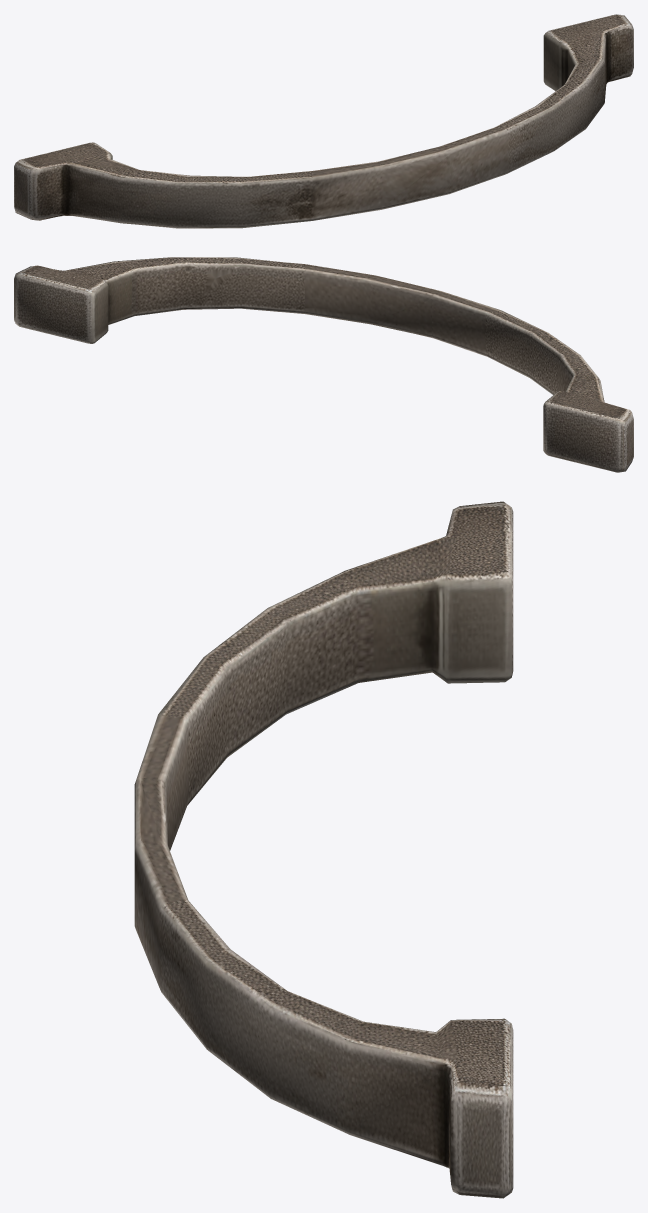
The model's file is stage4_sink_drawer_handle.fbx.
3 renders of one model, top to bottom at view 1: azimuth 30°, elevation 25°; view 2: azimuth 150°, elevation 25°; view 3: azimuth 270°, elevation 25°, orthographic. The views are drawn at different scales.
Parts seen in each view (by area): view 1: stage4_sink_drawer_handle; view 2: stage4_sink_drawer_handle; view 3: stage4_sink_drawer_handle.
Boxes of the visible parts, left/top/right/bottom form: stage4_sink_drawer_handle: left=14, top=14, right=633, bottom=228; stage4_sink_drawer_handle: left=14, top=257, right=633, bottom=472; stage4_sink_drawer_handle: left=134, top=501, right=513, bottom=1198.
Bounding box in the file's own units: 23.45 × 1.97 × 6.29.
